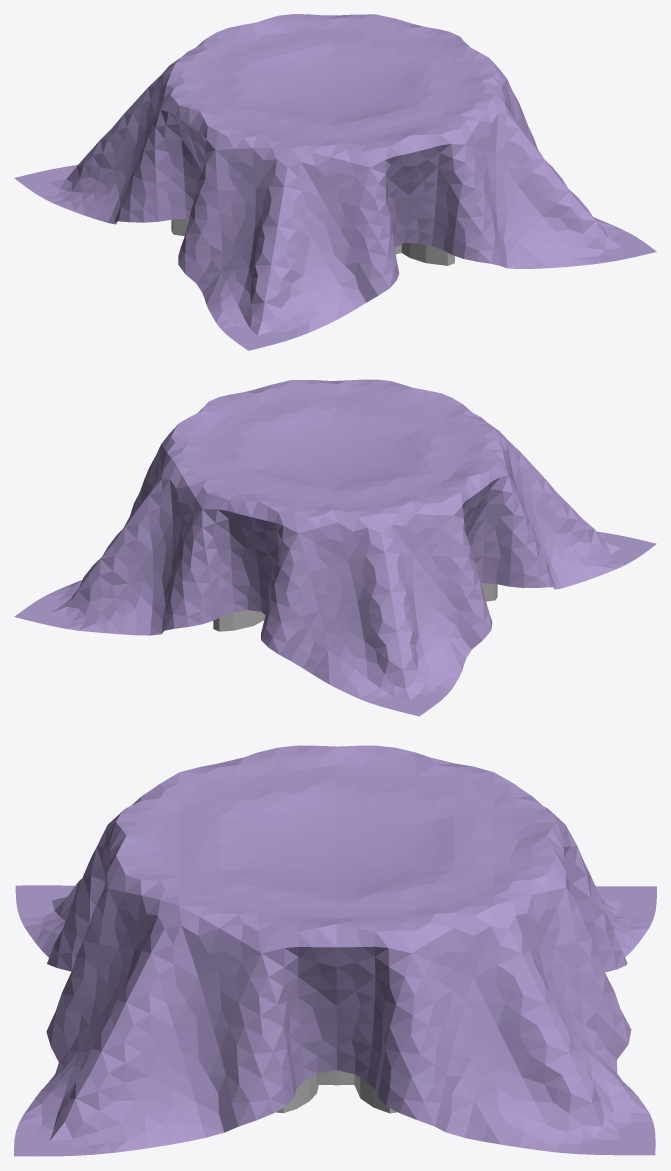
Rendered from level_1.glb.
3 renders of one model, top to bottom at view 1: azimuth 30°, elevation 25°; view 2: azimuth 150°, elevation 25°; view 3: azimuth 270°, elevation 25°, orthographic. The views are drawn at different scales.
Visible parts, largest first — view 1: world, object.obj; view 2: world, object.obj; view 3: world, object.obj.
Part boxes in pixels (left/top/right/bottom): world: left=14, top=14, right=656, bottom=350; object.obj: left=171, top=218, right=454, bottom=265; world: left=14, top=379, right=656, bottom=716; object.obj: left=213, top=583, right=497, bottom=631; world: left=14, top=745, right=656, bottom=1156; object.obj: left=275, top=1070, right=397, bottom=1113.
Size of the model in its own units: 0.5068 by 0.1615 by 0.508.
